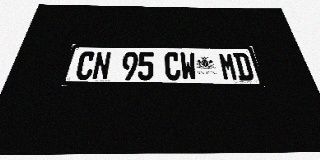5: (138, 52, 154, 80)
9: (121, 52, 138, 80)
C: (74, 52, 96, 80), (164, 52, 181, 80)
D: (233, 53, 255, 80)
M: (218, 53, 239, 80)
N: (91, 52, 112, 80)
W: (180, 52, 197, 80)
